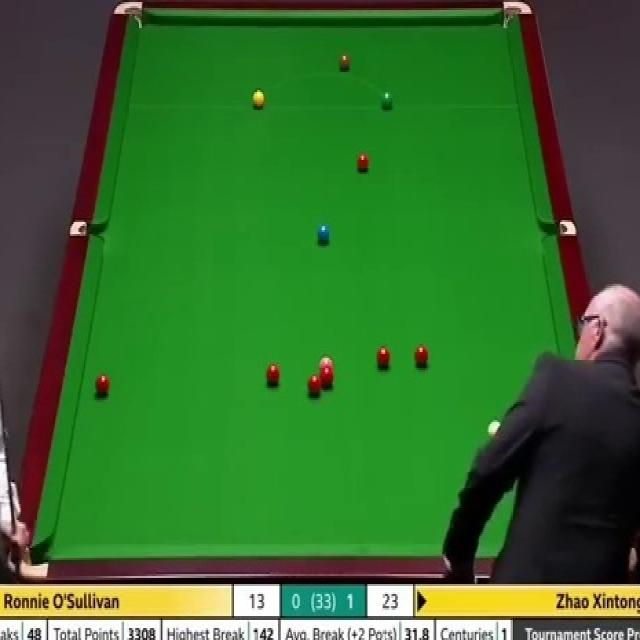pocket: (110, 0, 144, 28), (503, 0, 531, 31), (28, 548, 50, 580), (71, 220, 105, 237), (542, 218, 577, 234)
